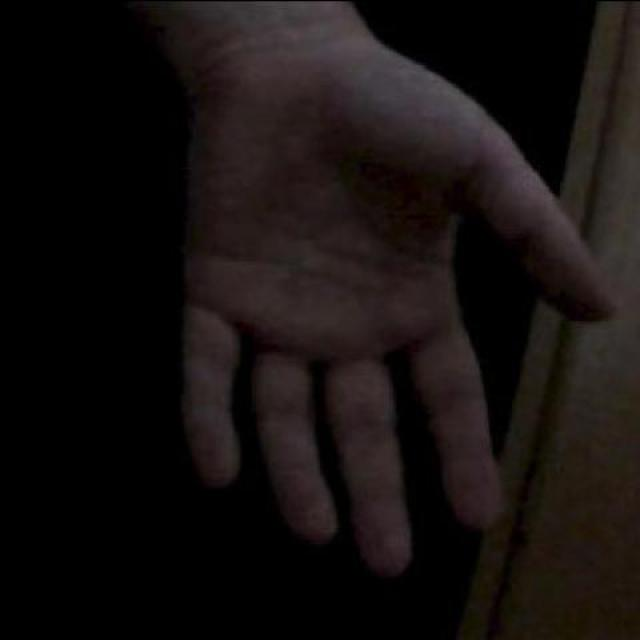Open Hand: (126, 0, 611, 575)
